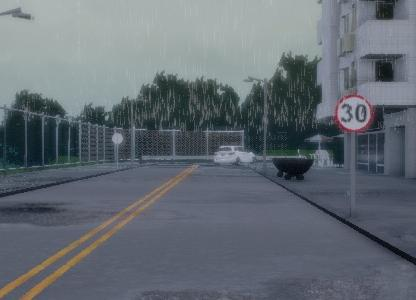Speed_30: (335, 96, 376, 134)
